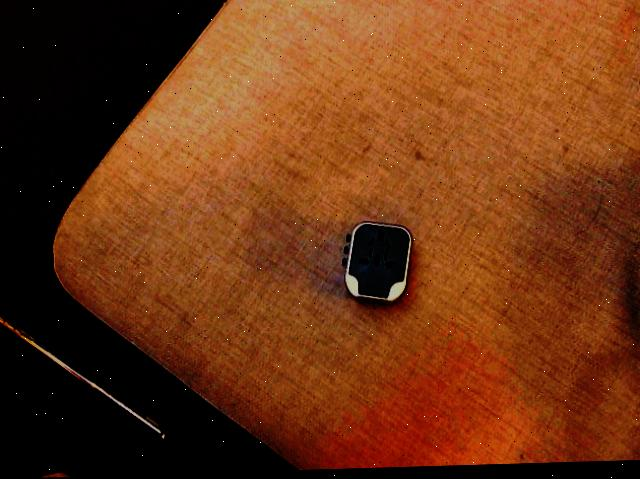adapter: (341, 222, 412, 307)
